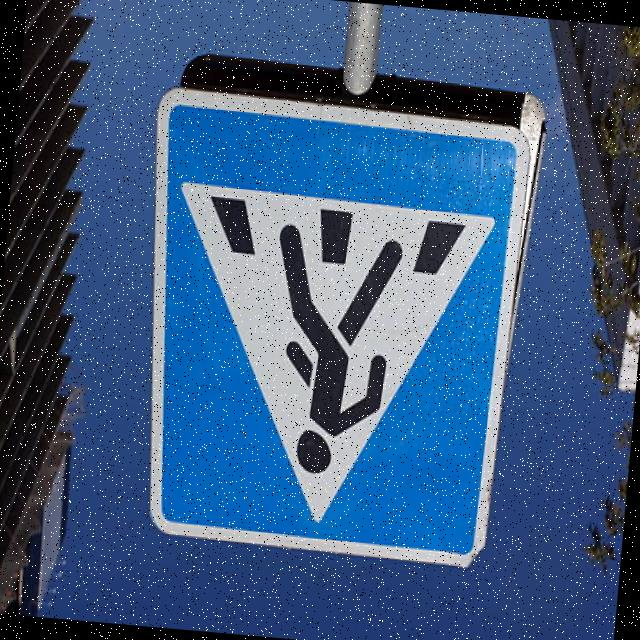crosswalk: (105, 44, 539, 598)
